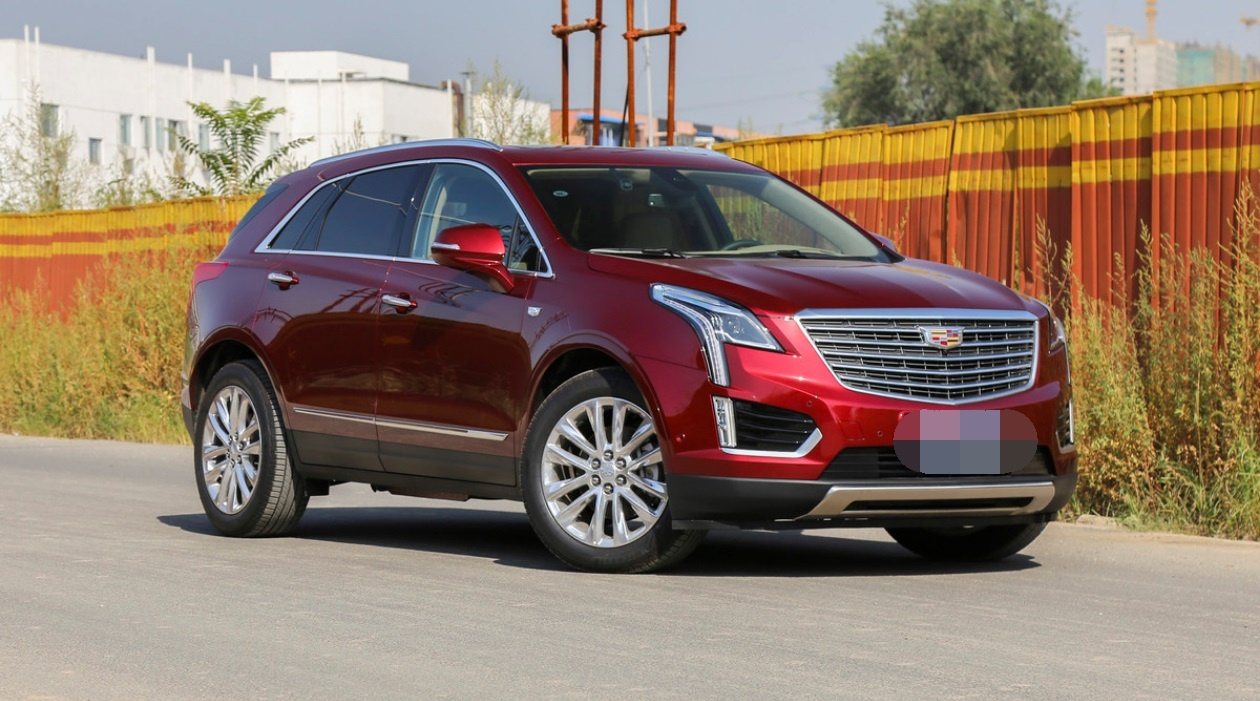SUV: (170, 106, 1099, 591)
